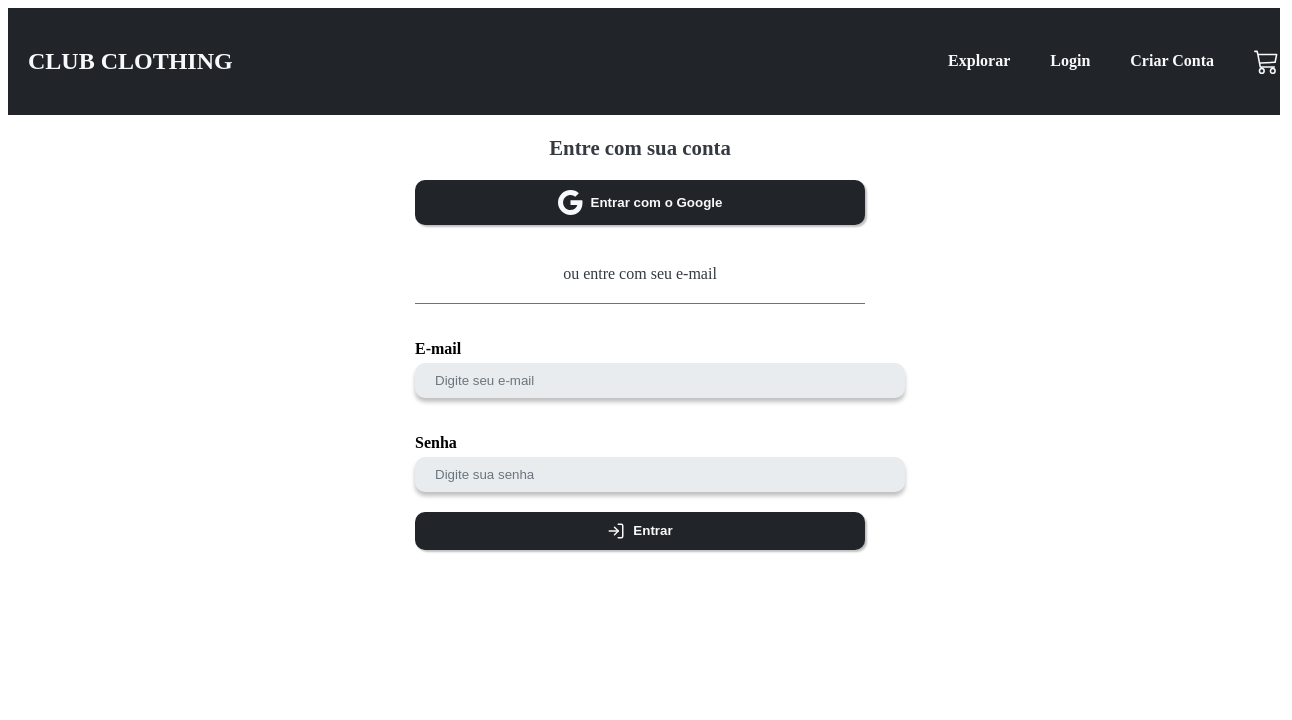
Test case: Login › should show erros when trying to submit without filling all required fields
Click the button "Entrar" at (640, 531), box x1=415 y1=512 x2=865 y2=550
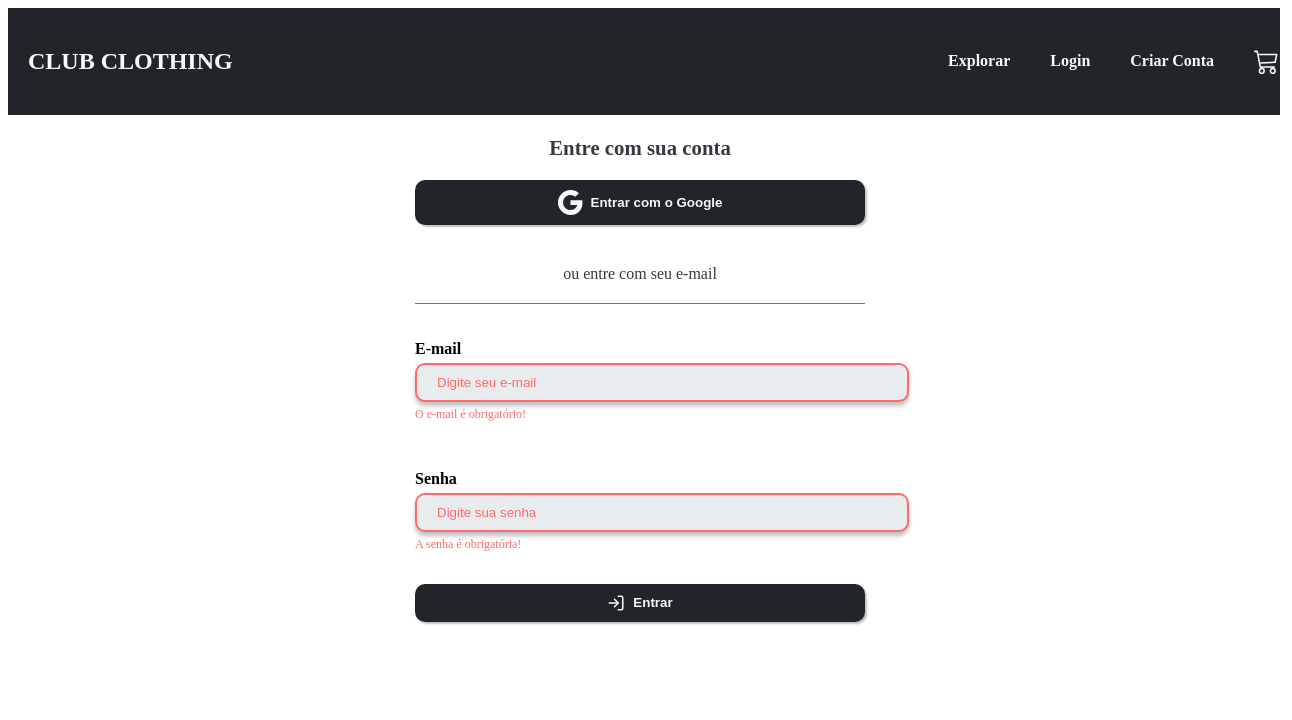
Result: the text "O e-mail é obrigatório!" is shown at x1=415 y1=407 x2=526 y2=421
Result: the text "A senha é obrigatória!" is shown at x1=415 y1=537 x2=521 y2=551
